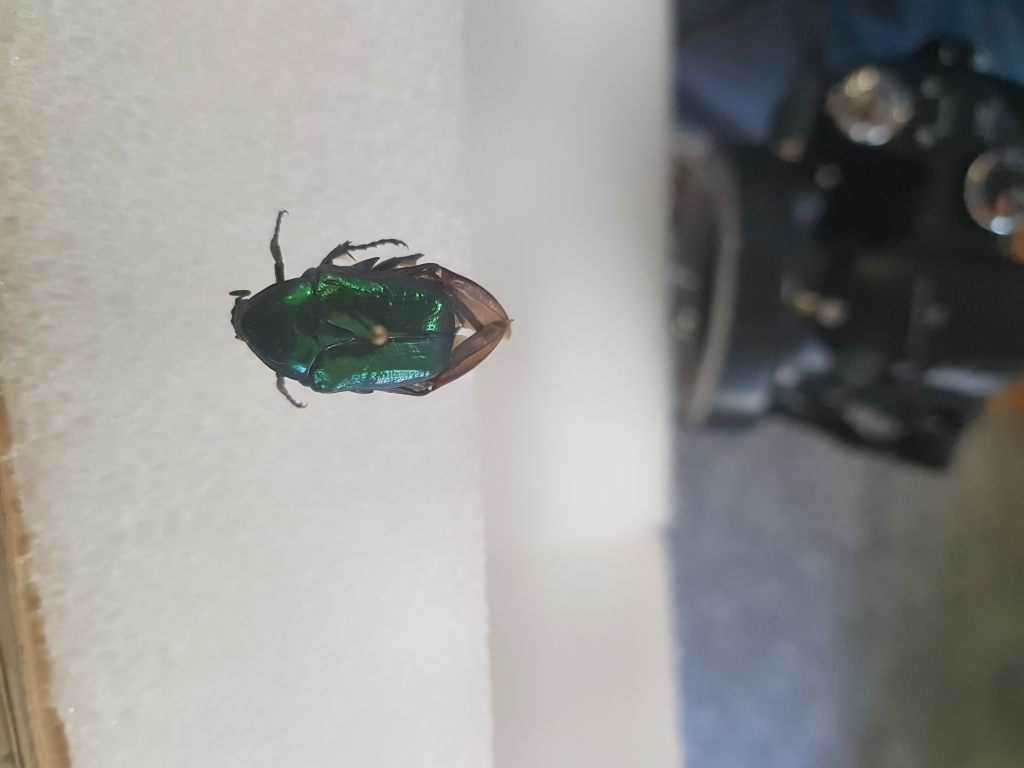Protaetia_angustata_angustata: (219, 199, 523, 412)
